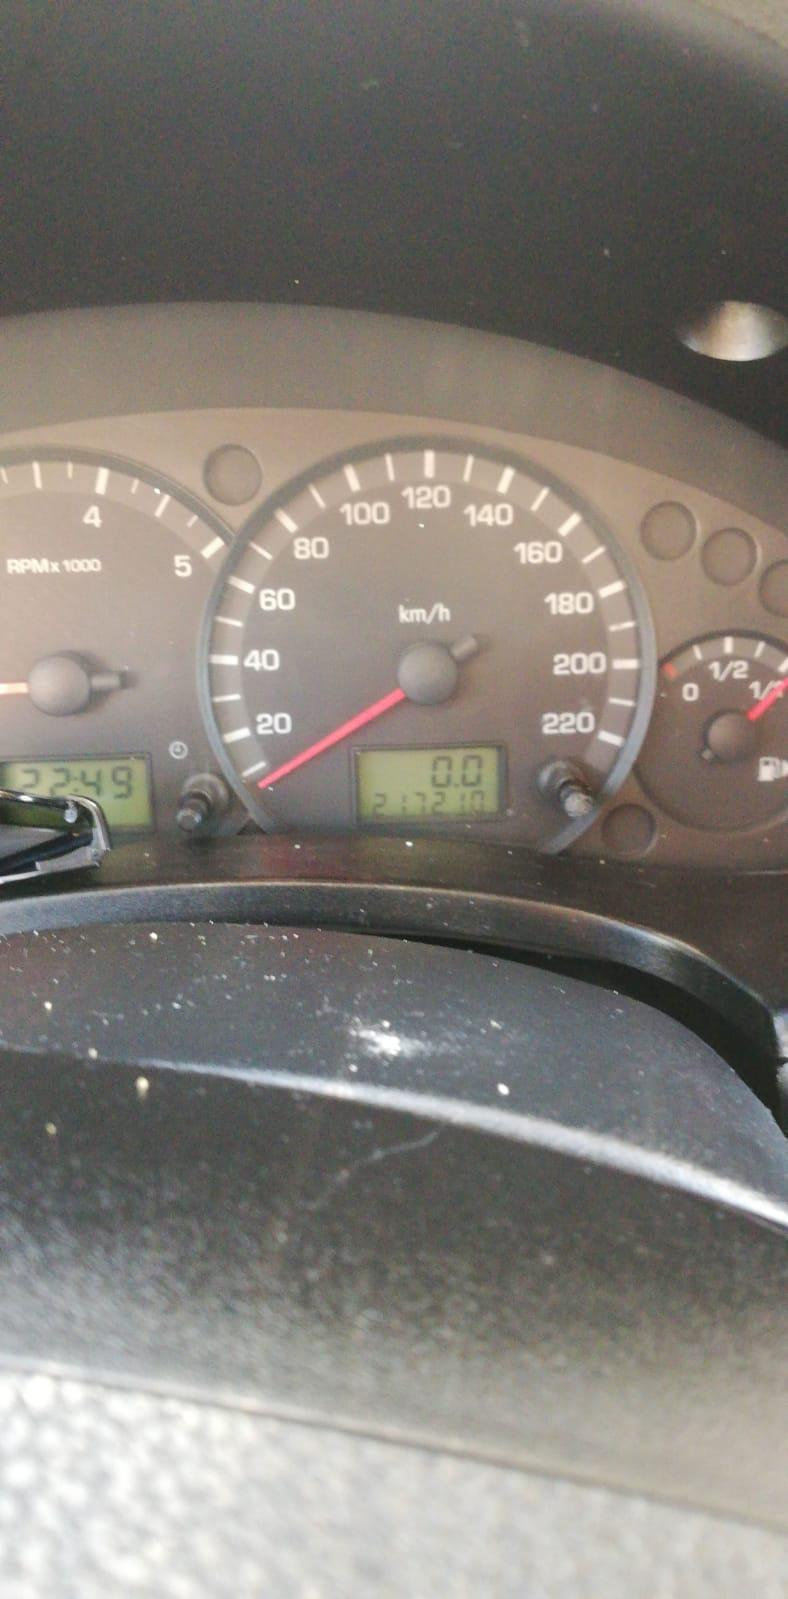,: (452, 782, 459, 789)
0: (430, 755, 453, 787), (460, 754, 482, 786), (470, 790, 483, 812)
1: (399, 792, 407, 815), (457, 791, 465, 812)
2: (371, 791, 387, 817), (431, 791, 445, 814)
7: (413, 790, 425, 814)
odometer: (349, 740, 509, 828)
